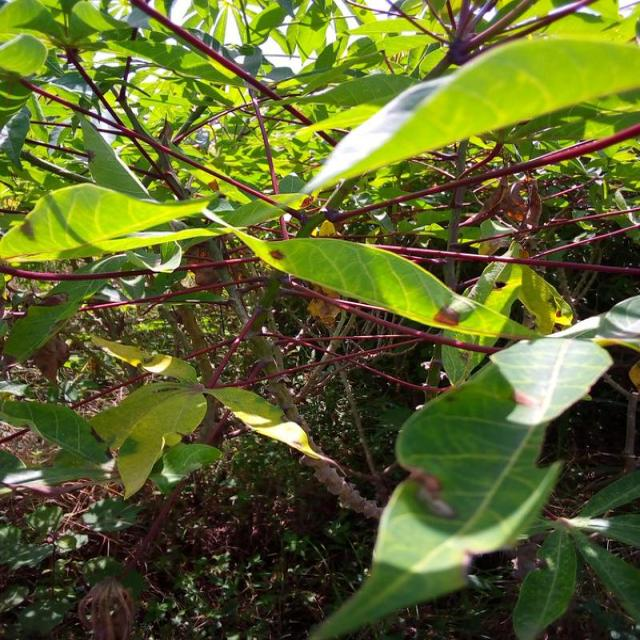cassava leaf: (307, 322, 613, 638), (293, 34, 638, 200), (232, 228, 565, 344), (0, 180, 216, 266)
